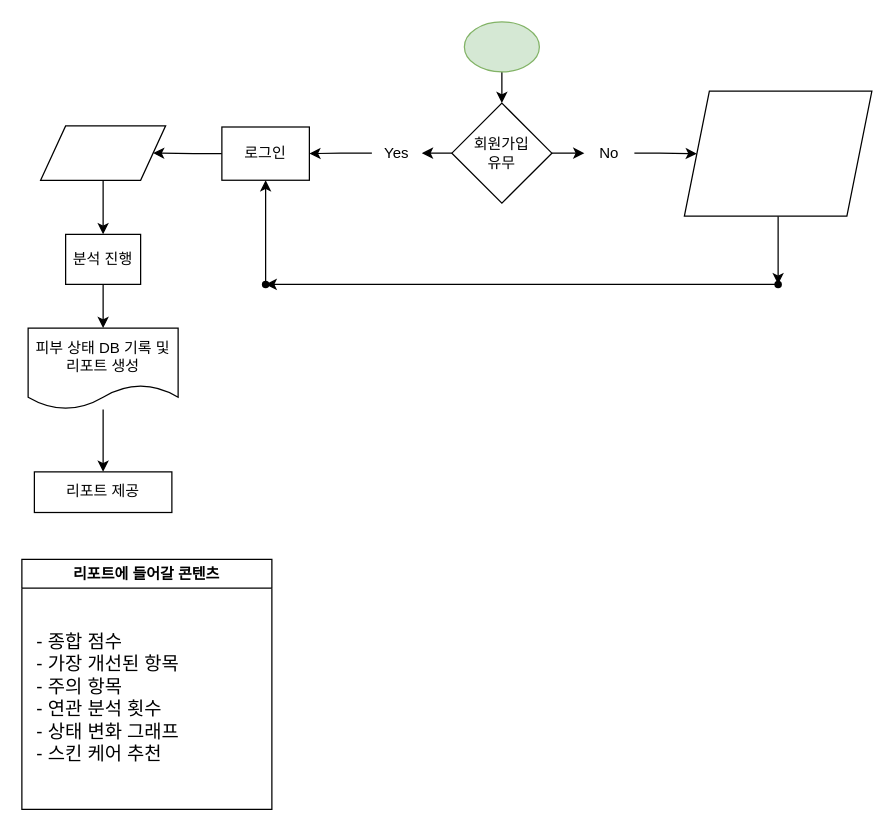
Some shapes in this 894 by 831 pixel diagram are drawn without their labels. The shapes that lost their labels are listed below. From the top down, each one's centre as x and y in pixels, then its label:
(501,46): 시작
(102,152): 얼굴 사진 업로드
(777,153): 피부 관련 설문조사 및 개인 정보 입력
